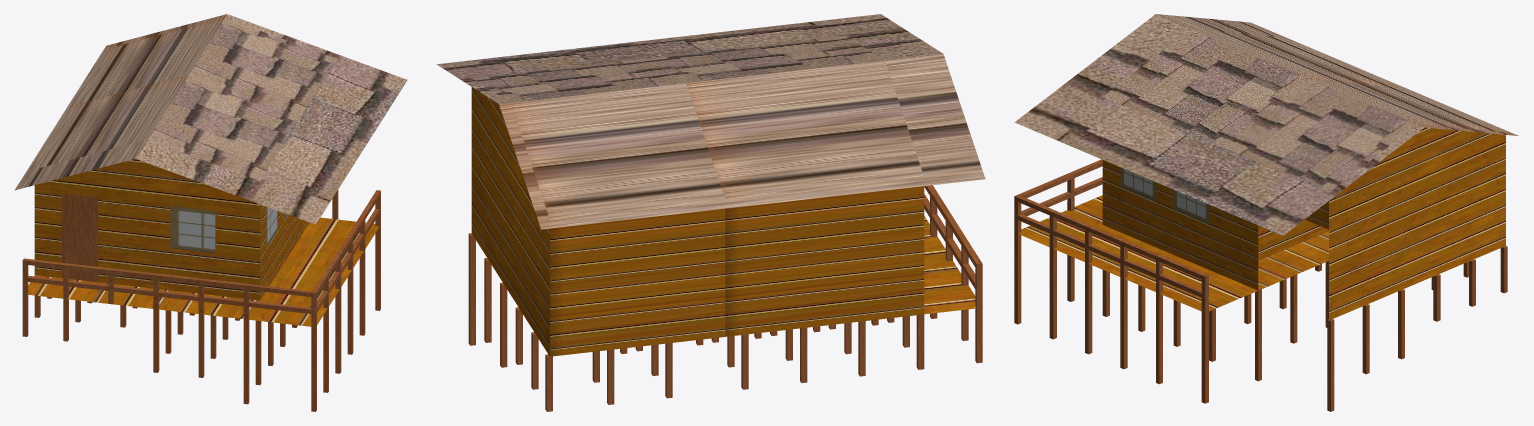
The model's file is GMLID_BUI130363_1235_6047.gltf.
The picture shows the model from 3 angles, left to right: view 1: azimuth 30°, elevation 25°; view 2: azimuth 150°, elevation 25°; view 3: azimuth 270°, elevation 25°; orthographic projection. The views are drawn at different scales.
Parts seen in each view (by area): view 1: Z_UP; view 2: Z_UP; view 3: Z_UP.
Part boxes in pixels (x1,y1,x2,y2): Z_UP: (14,14,407,411); Z_UP: (437,14,985,411); Z_UP: (1014,14,1518,411).
Size of the model in its own units: 15.15 by 8.25 by 15.15.
Materials: 2 (1 with a texture image).
